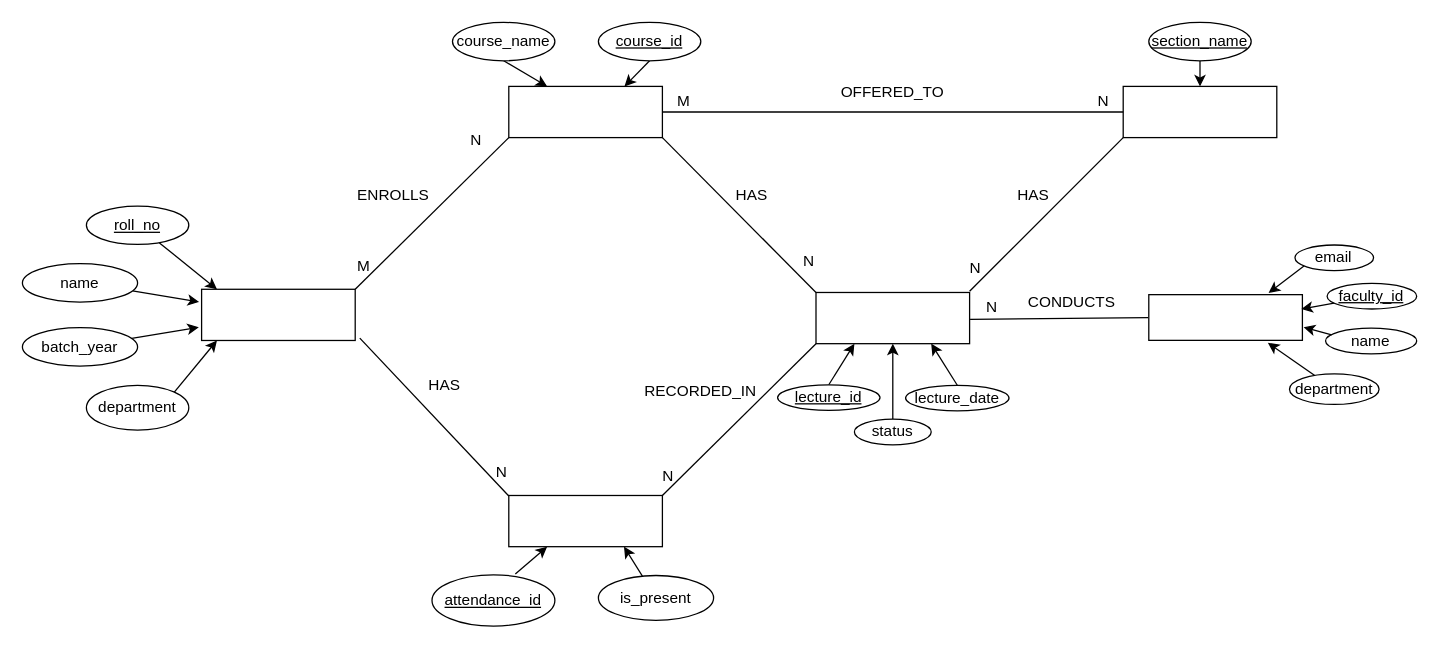
Some shapes in this 1440 by 649 pixel diagram are drawn without their labels. Here are the shapes that lost their labels. From the top down, the box of each, then its label:
(508, 85, 662, 138): COURSE
(1122, 85, 1277, 138): SECTION
(200, 288, 355, 340): STUDENT
(815, 291, 970, 344): LECTURE
(1148, 293, 1302, 340): FACULTY
(508, 494, 662, 547): ATTENDANCE
